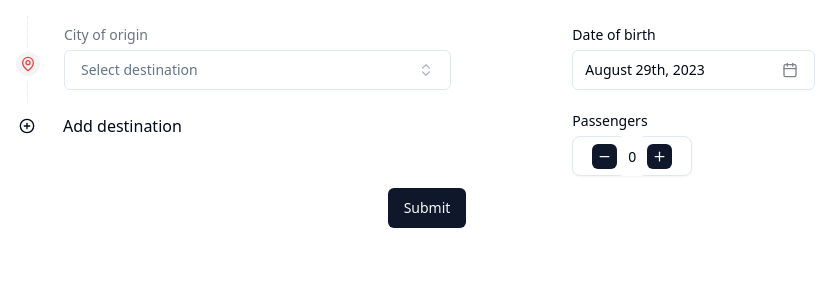
Test: should render two city inputs when clicking add destination button
The image size is (832, 281).
Step 1. Click the text "Add destination" → coordinates (122, 126), box [63,114,182,138]
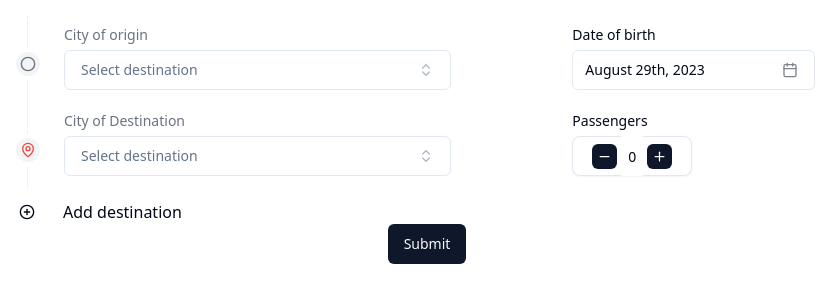
Expected: the text "City of origin" is shown, [64,25,148,44]
Now the text "City of Destination" is shown, box [64,111,185,130]
